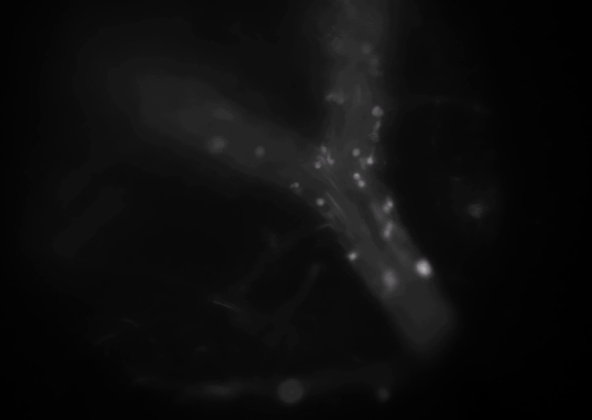cell: (416, 261, 430, 275), (370, 104, 384, 118), (349, 146, 363, 160), (364, 153, 378, 167), (317, 142, 331, 156), (310, 158, 324, 172), (324, 155, 338, 169), (324, 89, 338, 103), (350, 169, 364, 183), (332, 92, 346, 106), (355, 177, 369, 191), (346, 251, 360, 265), (382, 271, 396, 285), (379, 228, 393, 242), (383, 197, 397, 211), (382, 219, 396, 233), (380, 202, 394, 216), (313, 196, 327, 210), (289, 179, 303, 193), (251, 144, 265, 158), (208, 136, 222, 150), (358, 43, 372, 57), (366, 53, 380, 67), (331, 40, 345, 54), (367, 128, 381, 142), (370, 119, 384, 133)
